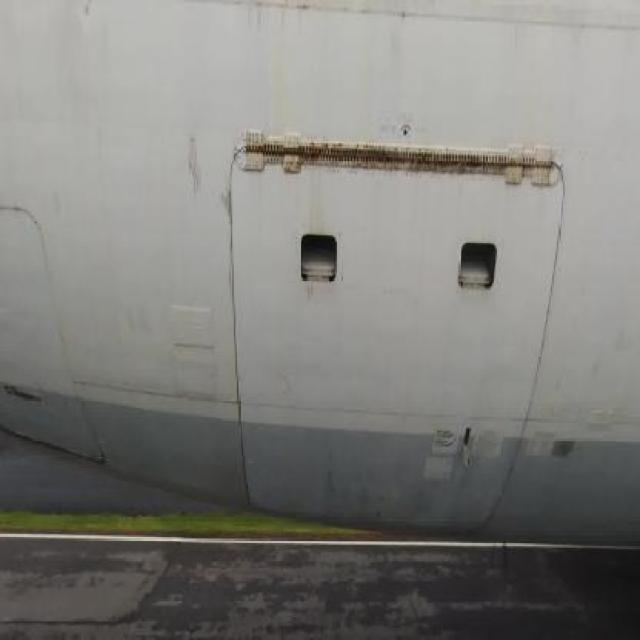Rust: (240, 126, 566, 194), (182, 132, 204, 200)
Scartch: (218, 182, 234, 282)
